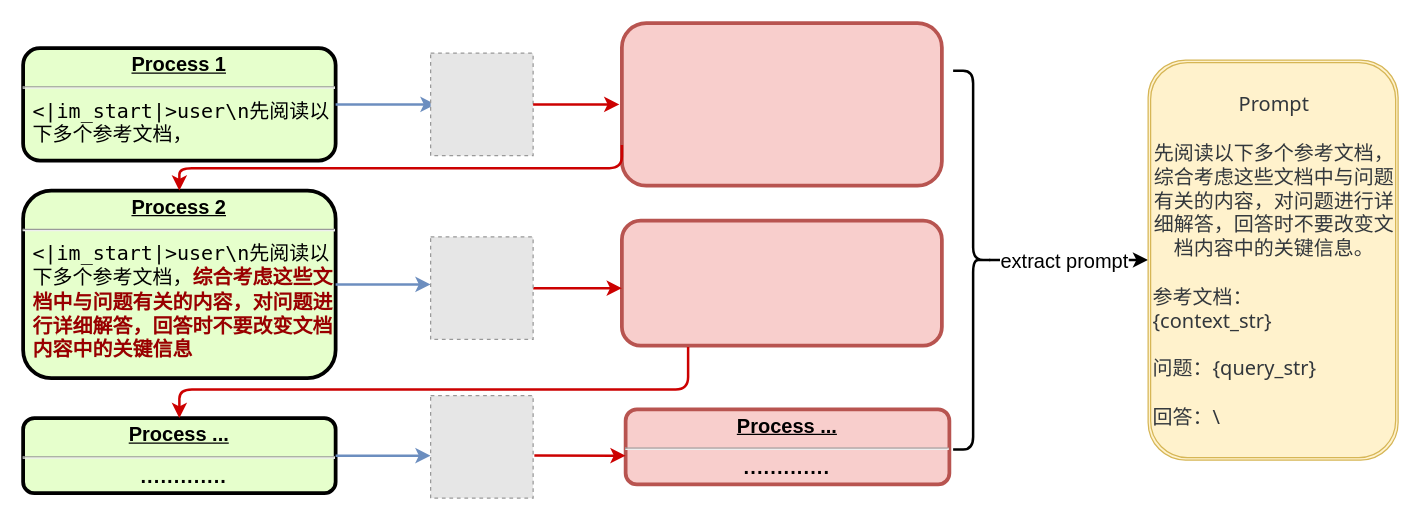
The diagram is 1420 pixels wide and 520 high, and some of its shapes have lost their labels. Grey dashed boxes stand in for pictures. The shapes that lost their labels are listed below. From the top down, each one's centre as x and y in pixels, then its label:
At (x=781, y=104): "Process 1 综合考虑这些文档中与问题有关的内容，对问题进行详细解答，回答时不要改变文档内容中的关键信息。".
At (x=781, y=282): "Process 2 问题：... 请从参考文档中总结 回答。".
